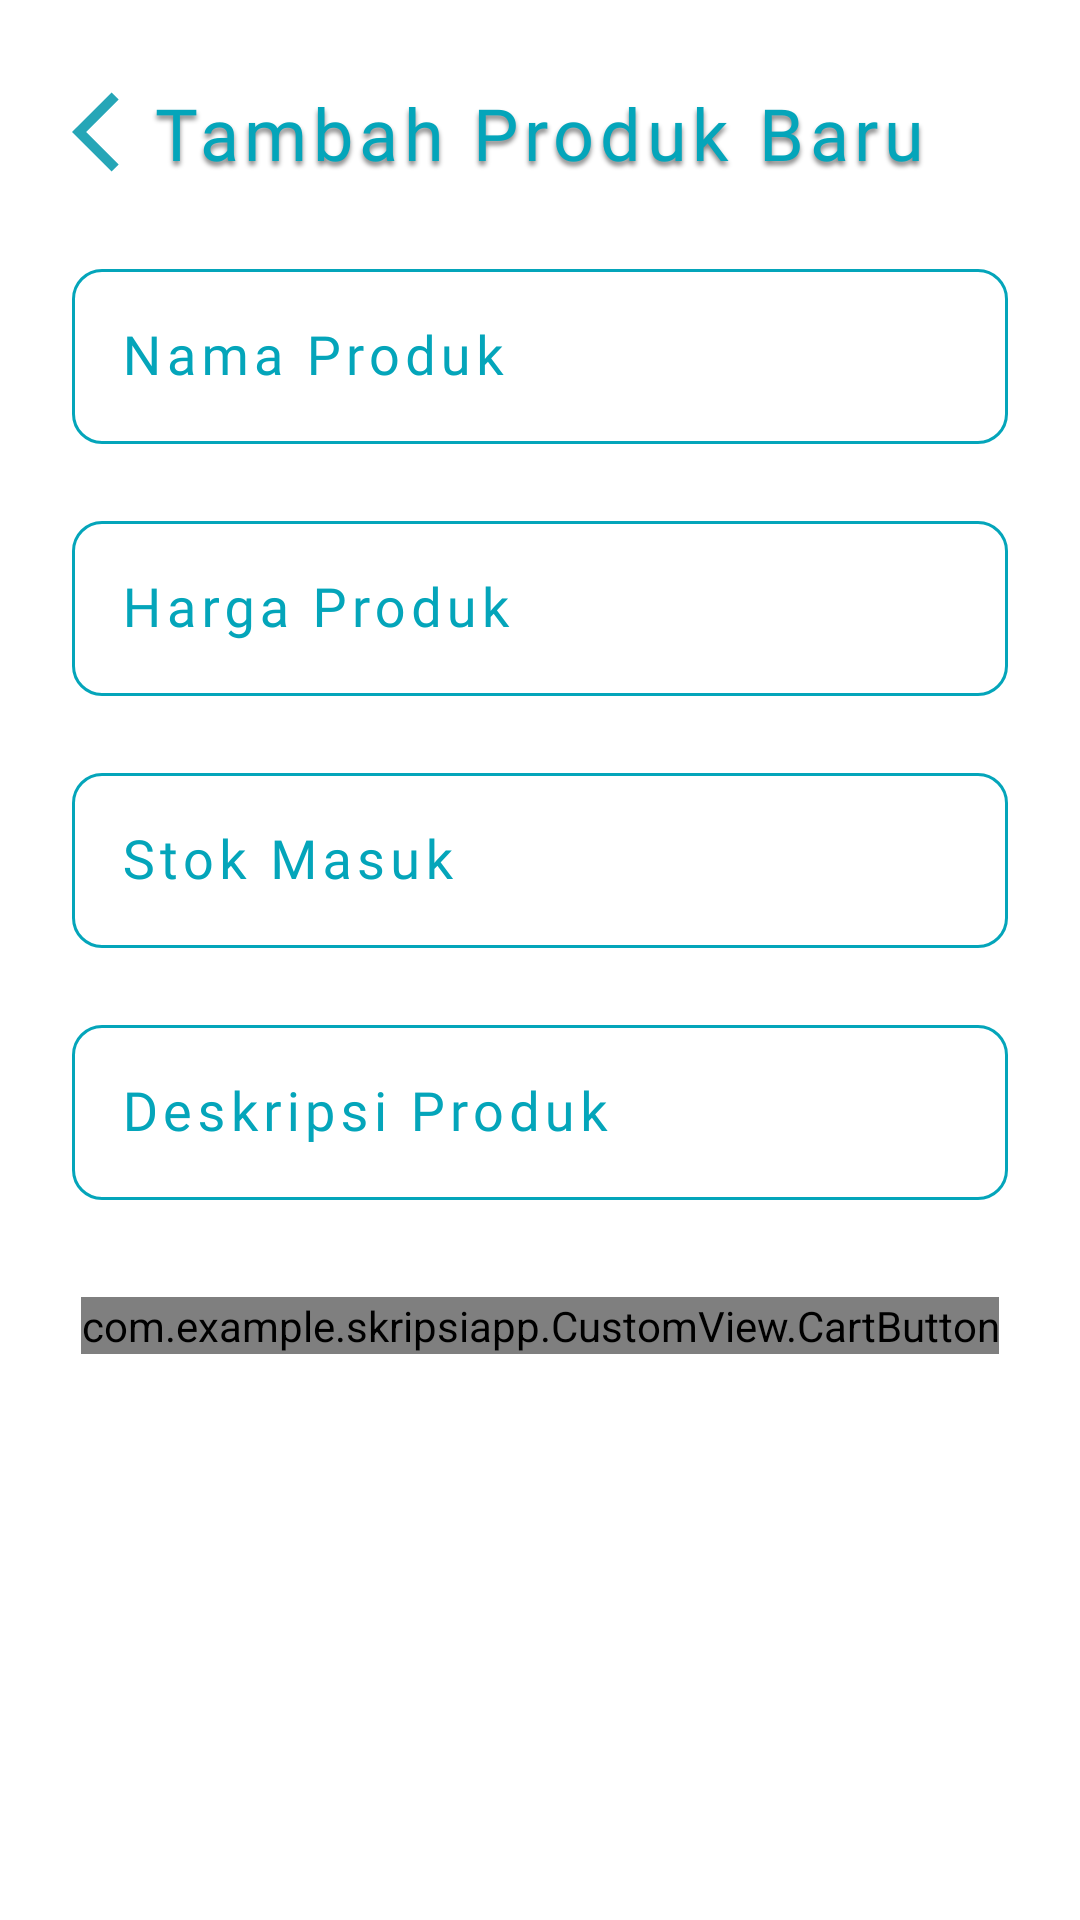

Icon click points for this 1080w x 1920h phone screenshot, format [x,y]:
back: [95,132]
